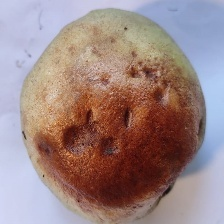guava: (24, 53, 171, 189)
